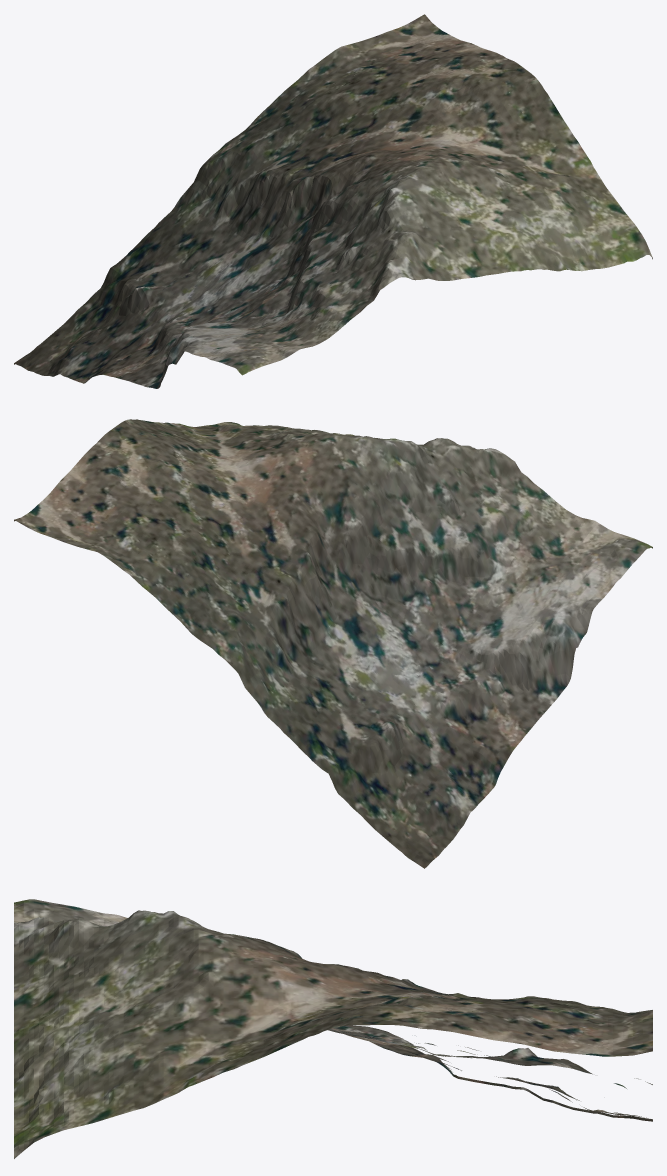
The picture shows the model from 3 angles, top to bottom: view 1: azimuth 30°, elevation 25°; view 2: azimuth 150°, elevation 25°; view 3: azimuth 270°, elevation 25°; orthographic projection. The views are drawn at different scales.
Size of the model in its own units: 250 by 157 by 241.
Materials: 1 (1 with a texture image).
